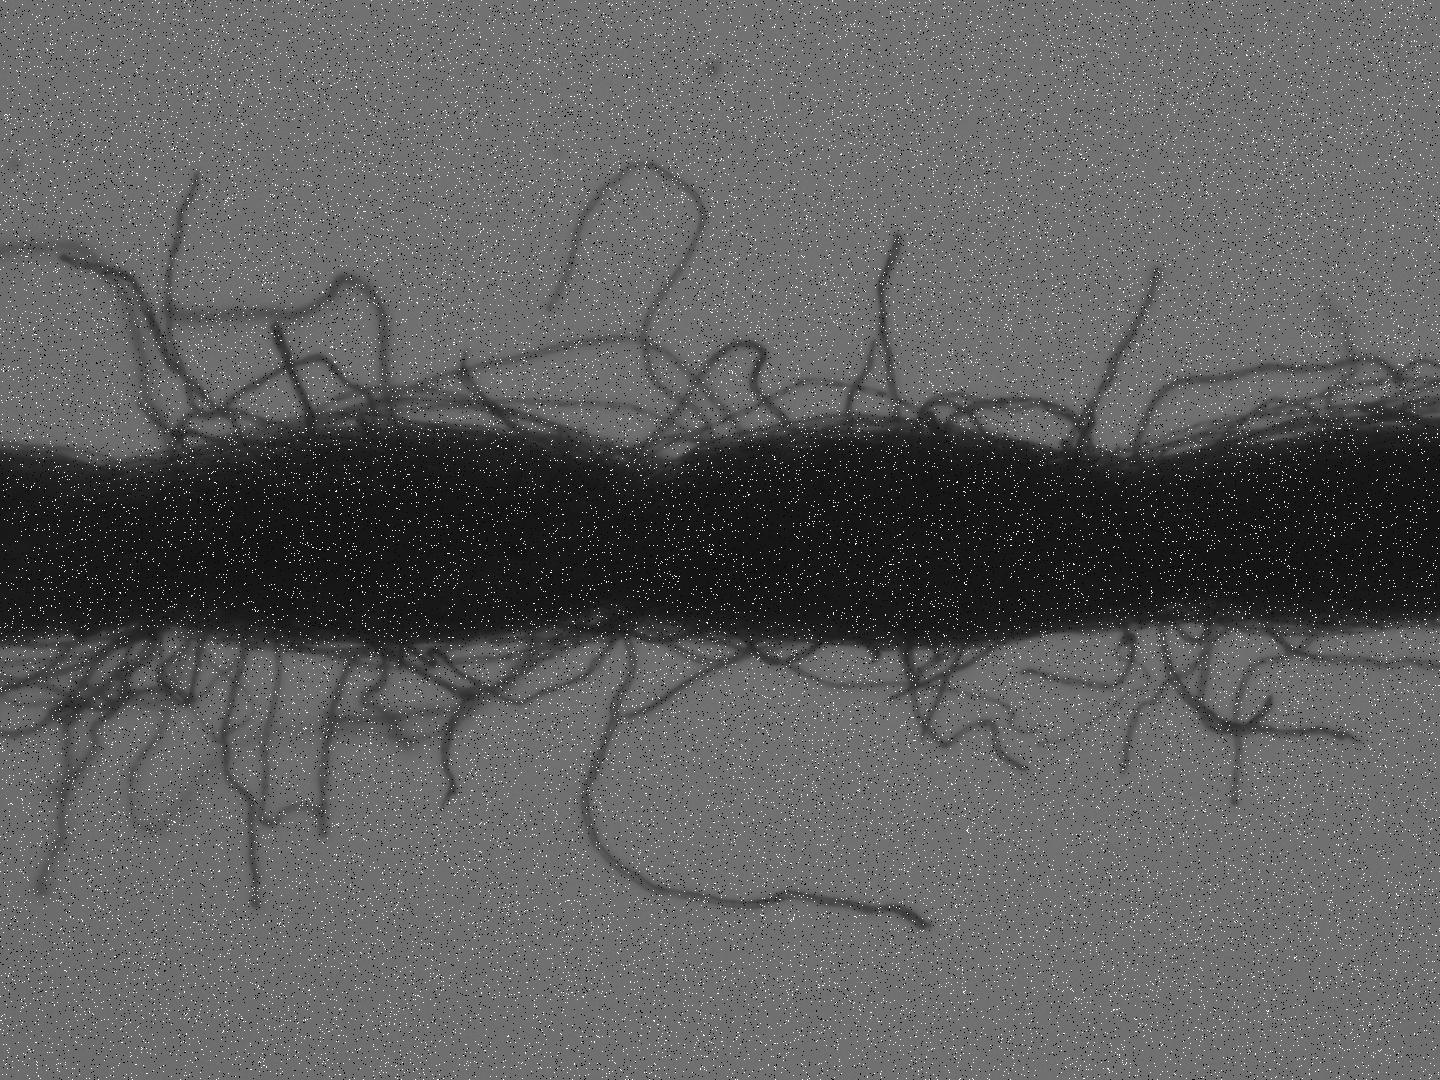loop_fiber: (611, 336, 816, 503), (619, 380, 943, 465), (1213, 393, 1429, 457), (940, 389, 1103, 471), (172, 407, 312, 469), (273, 412, 444, 448), (743, 621, 840, 674), (156, 627, 217, 709), (914, 400, 997, 441), (1167, 606, 1219, 647)
protruding_fiber: (578, 605, 939, 939), (875, 227, 909, 424)
